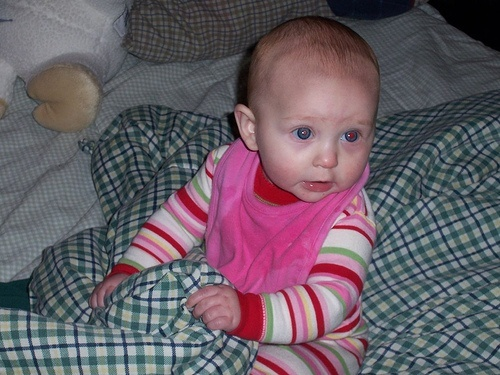head: (236, 16, 383, 204)
person: (48, 8, 405, 372)
